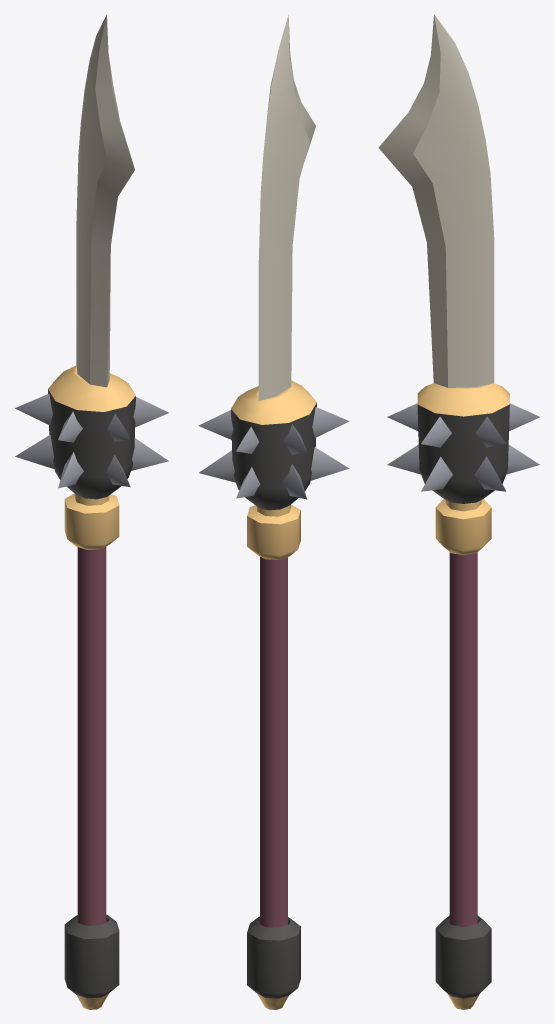
Rendered from Weap_Sovnya.fbx.
3 renders of one model, left to right at view 1: azimuth 30°, elevation 25°; view 2: azimuth 150°, elevation 25°; view 3: azimuth 270°, elevation 25°, orthographic. The views are drawn at different scales.
Visible parts, largest first — view 1: Sovnya_1; view 2: Sovnya_1; view 3: Sovnya_1.
Boxes of the visible parts, x1,y1,x2,y2 form: Sovnya_1: (15,14,168,1009); Sovnya_1: (198,15,349,1009); Sovnya_1: (378,14,539,1009).
Bounding box in the file's own units: 65.89 × 567 × 83.83.
